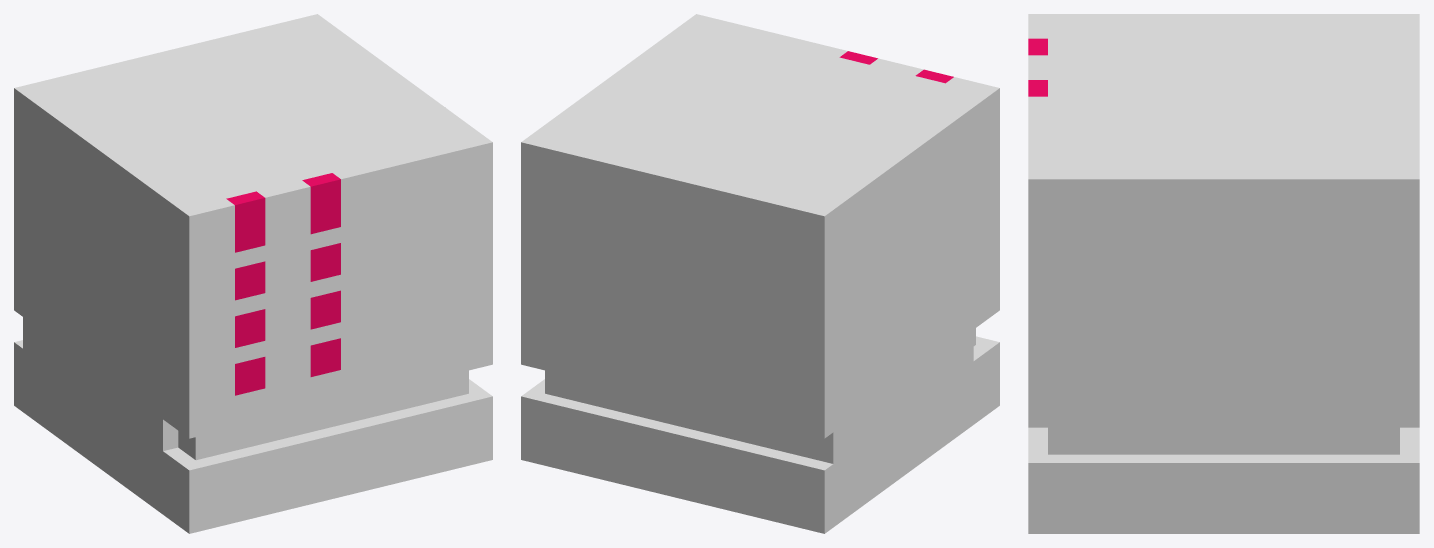
Rendered from DoorRightBottom.FBX.
3 renders of one model, left to right at view 1: azimuth 30°, elevation 25°; view 2: azimuth 150°, elevation 25°; view 3: azimuth 270°, elevation 25°, orthographic. The views are drawn at different scales.
Visible parts, largest first — view 1: Lado_DerechoPuerta; view 2: Lado_DerechoPuerta; view 3: Lado_DerechoPuerta.
Boxes of the visible parts, x1=… form: Lado_DerechoPuerta: x1=14, y1=14, x2=492, y2=533; Lado_DerechoPuerta: x1=521, y1=14, x2=999, y2=533; Lado_DerechoPuerta: x1=1028, y1=14, x2=1419, y2=533.
Bounding box in the file's own units: 1 × 1 × 1.
Materials: 1 (1 with a texture image).
